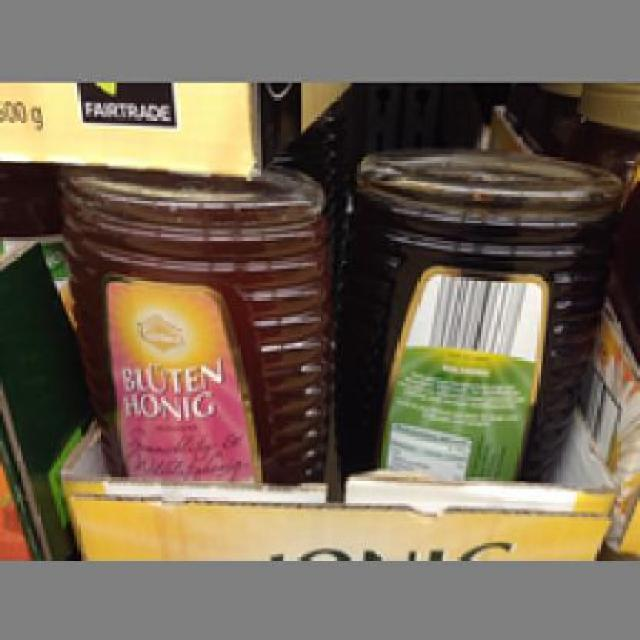Honey: (51, 166, 338, 492), (352, 155, 618, 494)
